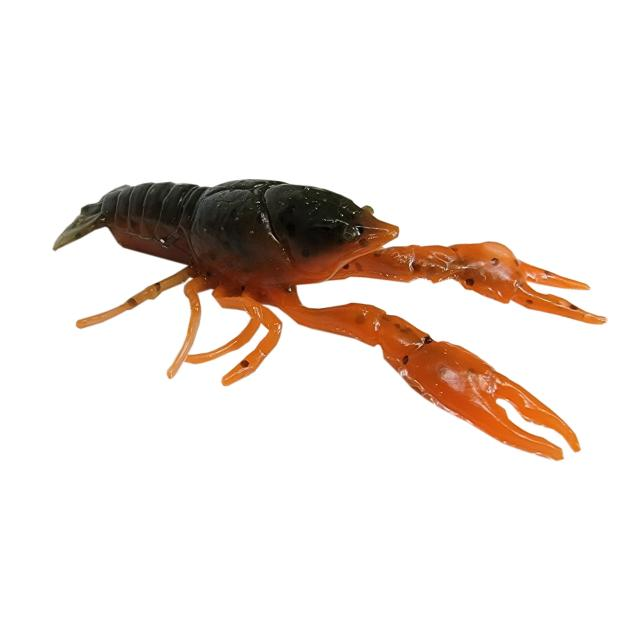Crawfish: (55, 180, 605, 460)
